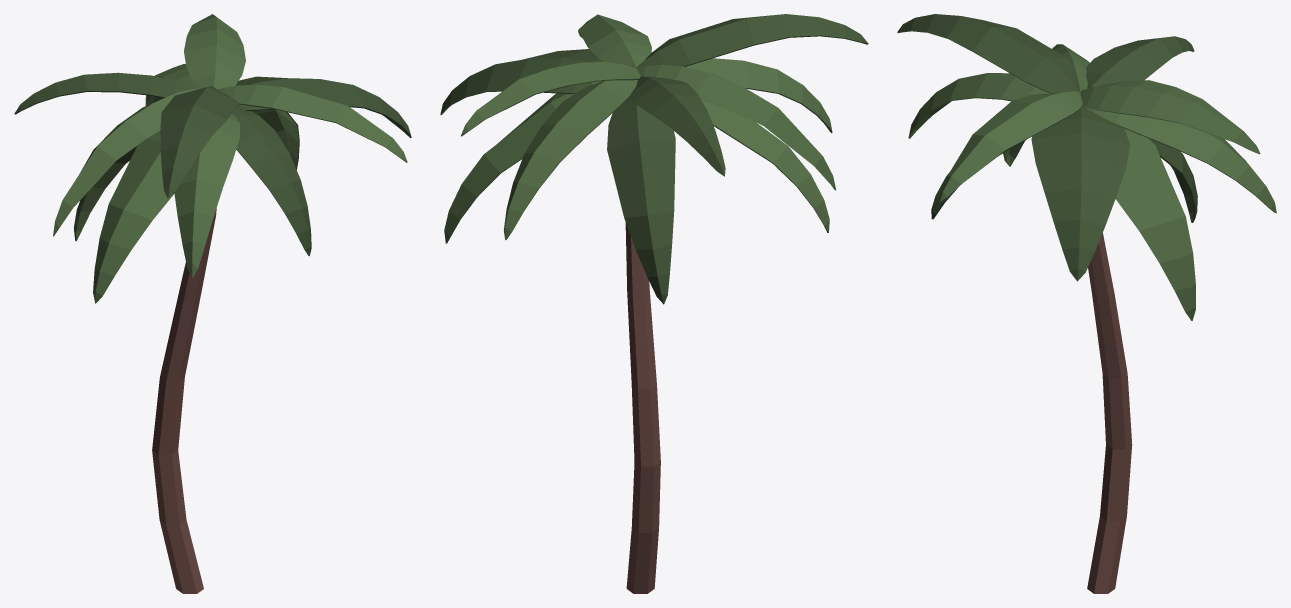
The model's file is palm_tree_3.glb.
The picture shows the model from 3 angles, left to right: view 1: azimuth 30°, elevation 25°; view 2: azimuth 150°, elevation 25°; view 3: azimuth 270°, elevation 25°; orthographic projection.
Parts seen in each view (by area): view 1: palm_tree_3; view 2: palm_tree_3; view 3: palm_tree_3.
Part boxes in pixels (x1=…): palm_tree_3: x1=14, y1=14, x2=411, y2=593; palm_tree_3: x1=440, y1=14, x2=868, y2=593; palm_tree_3: x1=897, y1=14, x2=1276, y2=593.
Size of the model in its own units: 2.88 by 3.93 by 2.51.
1 material, 1 textured.
